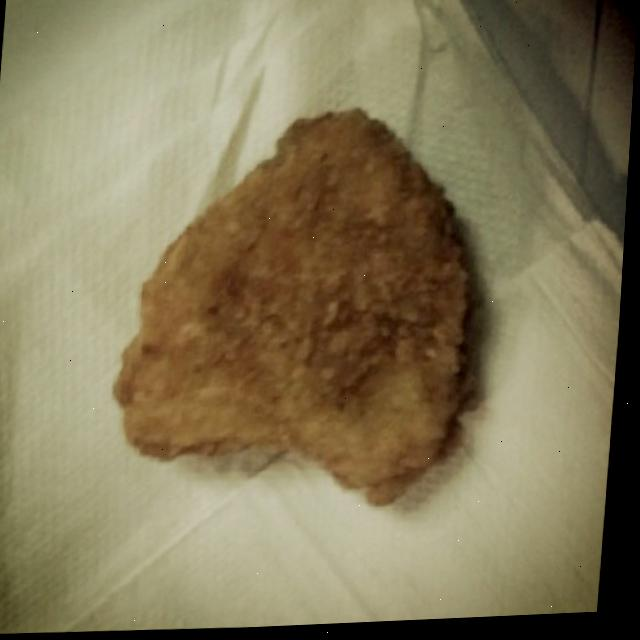鸡肉料理 含炸鸡: (79, 84, 527, 582)
